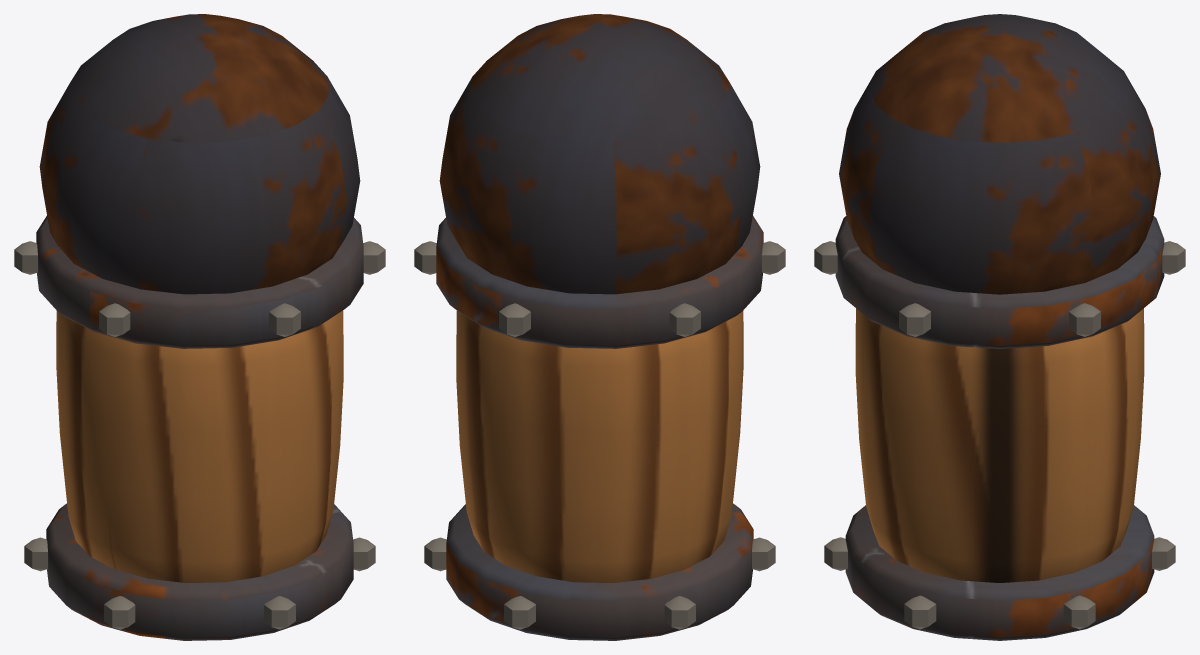
File: UpperLeg_L.glb
3 views of the same model, side by side, from view 1: azimuth 30°, elevation 25°; view 2: azimuth 150°, elevation 25°; view 3: azimuth 270°, elevation 25° (orthographic).
Visible parts, largest first — view 1: UpperLeg_L; view 2: UpperLeg_L; view 3: UpperLeg_L.
Part boxes in pixels (x1=…): UpperLeg_L: x1=14, y1=14, x2=385, y2=640; UpperLeg_L: x1=414, y1=14, x2=785, y2=640; UpperLeg_L: x1=814, y1=14, x2=1185, y2=640.
Size of the model in its own units: 0.194 by 0.3585 by 0.2191.
Materials: 4 (3 with a texture image).
